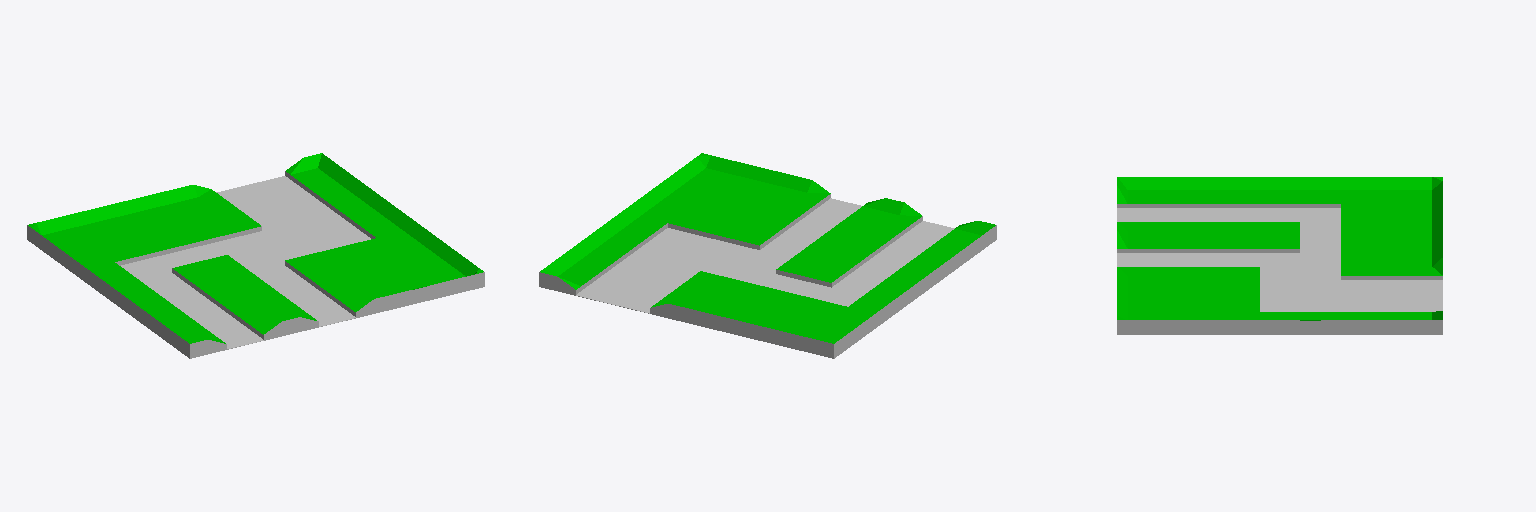
File: JoinRoads.obj
3 renders of one model, left to right at view 1: azimuth 30°, elevation 25°; view 2: azimuth 150°, elevation 25°; view 3: azimuth 270°, elevation 25°, orthographic.
Parts seen in each view (by area): view 1: Cube; view 2: Cube; view 3: Cube.
Boxes of the visible parts, x1,y1,x2,y2 form: Cube: [27, 153, 484, 358]; Cube: [539, 153, 996, 358]; Cube: [1117, 177, 1442, 334].
Bounding box in the file's own units: 16.31 × 0.7916 × 15.58.